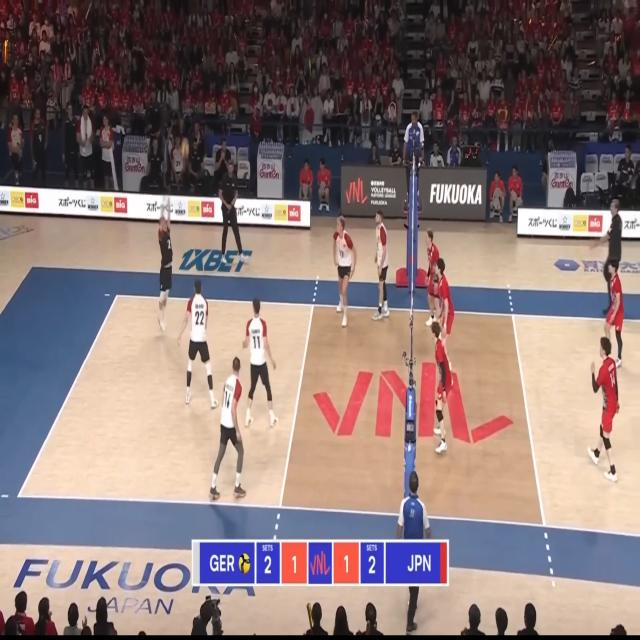ball: (182, 140, 188, 158)
